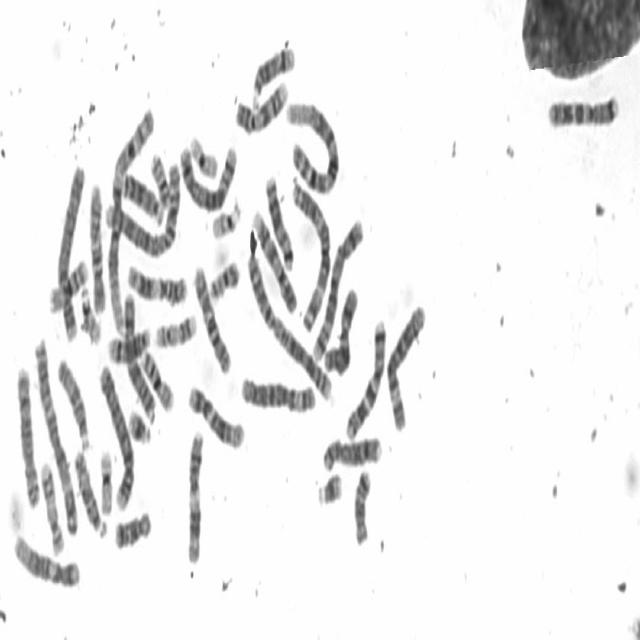A1: (104, 97, 156, 336), (285, 94, 340, 196)
A2: (243, 248, 333, 406), (102, 156, 181, 259)
A3: (33, 330, 79, 535), (289, 174, 331, 333)
B4: (97, 360, 135, 514), (54, 161, 86, 342)
B5: (311, 215, 364, 363), (177, 138, 238, 214)
C10: (191, 262, 232, 376), (87, 176, 106, 316)
C11: (125, 258, 188, 308), (184, 425, 205, 566)
C12: (11, 528, 81, 590), (186, 381, 245, 451)
C6: (383, 299, 428, 433), (238, 370, 317, 416)
C7: (343, 313, 387, 442), (545, 88, 620, 132)
C8: (14, 362, 40, 511), (320, 433, 382, 473)
C9: (250, 205, 298, 316), (232, 76, 290, 138)
D13: (263, 168, 295, 272), (120, 167, 162, 226)
D14: (250, 41, 296, 109), (106, 322, 151, 366)
D15: (56, 352, 91, 452), (72, 446, 107, 539)
E16: (46, 256, 89, 318), (139, 344, 174, 414)
E17: (38, 457, 64, 557), (153, 308, 197, 351)
E18: (113, 506, 152, 552), (351, 464, 371, 548)
F19: (188, 130, 220, 182), (97, 444, 115, 516)
F20: (208, 254, 242, 302), (148, 146, 171, 208)
G21: (315, 468, 344, 508), (126, 405, 152, 447)
G22: (79, 282, 102, 346), (209, 197, 242, 241)
X: (122, 287, 156, 423), (322, 282, 359, 377)
